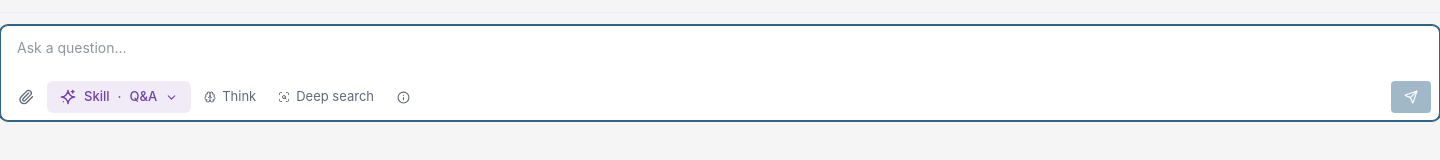
Test: AskMode › refuses an image with a reason when the chat model has no vision
This screenshot has width=1440, height=160.
Type "What is shown here?" into the text box with placeholder "Ask a question..." at (720, 52), box [9, 32, 1431, 72]
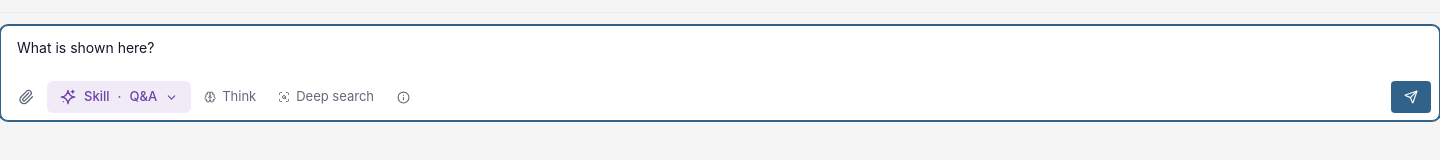
Now the button named "Send message" is enabled, box [1391, 81, 1431, 113]
